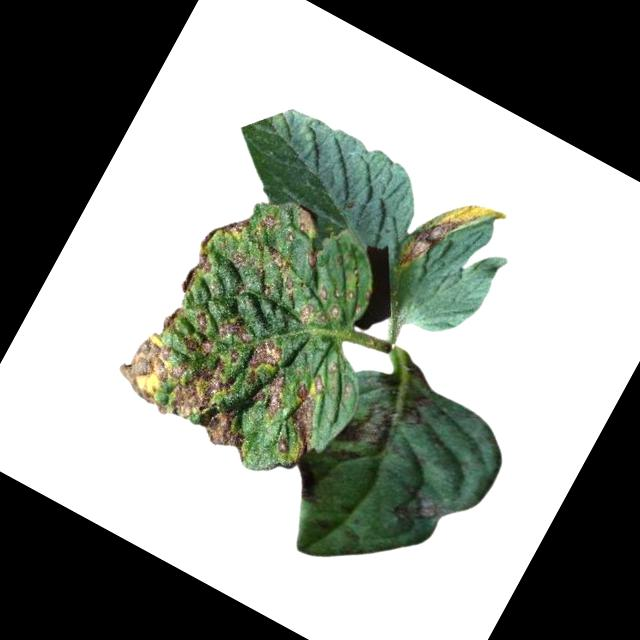Early_blight: (106, 166, 409, 490), (392, 175, 509, 299), (333, 362, 436, 475), (383, 477, 452, 546), (285, 456, 332, 504)
